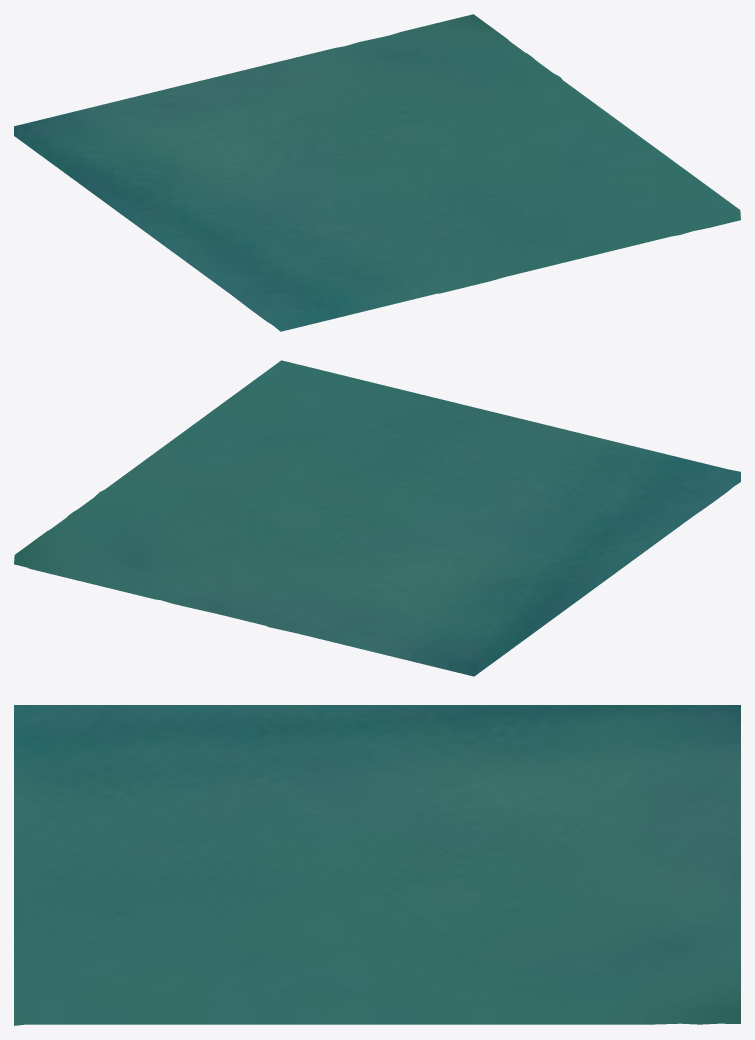
The model's file is z20-167788-405216-h0-yup-uvflip-v3-world.glb.
3 renders of one model, top to bottom at view 1: azimuth 30°, elevation 25°; view 2: azimuth 150°, elevation 25°; view 3: azimuth 270°, elevation 25°, orthographic. The views are drawn at different scales.
Size of the model in its own units: 30.2 by 0.68 by 30.32.
Materials: 1 (1 with a texture image).
